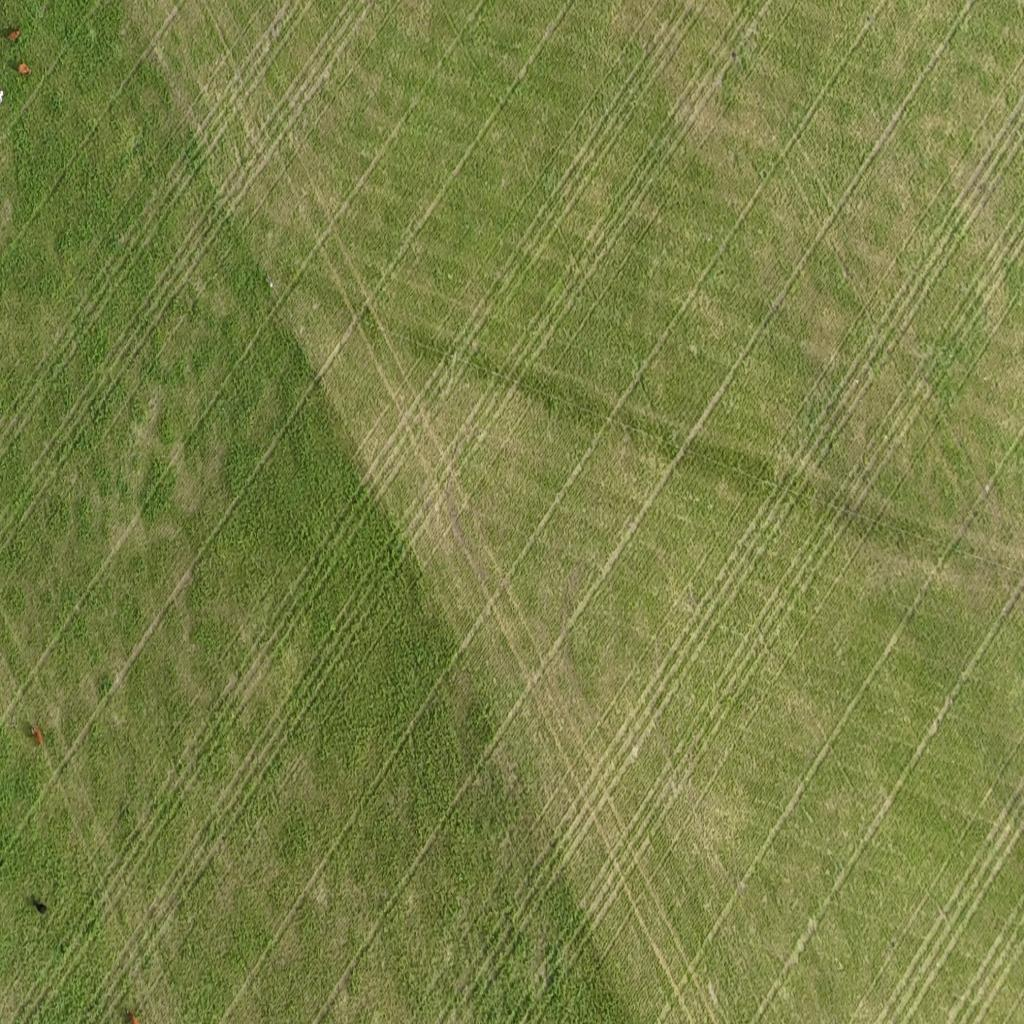cow: (6, 25, 24, 46), (16, 60, 34, 79), (32, 896, 48, 916), (31, 724, 44, 746), (124, 1009, 140, 1023)
